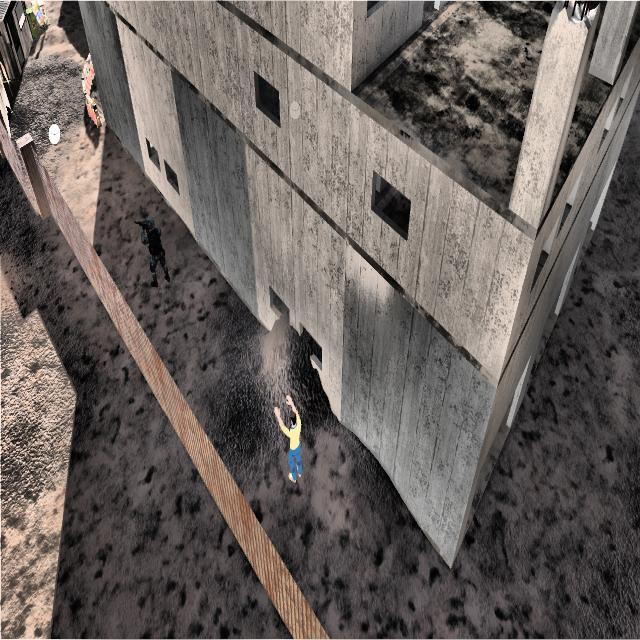bad: (132, 208, 173, 300)
good: (269, 386, 308, 498)
